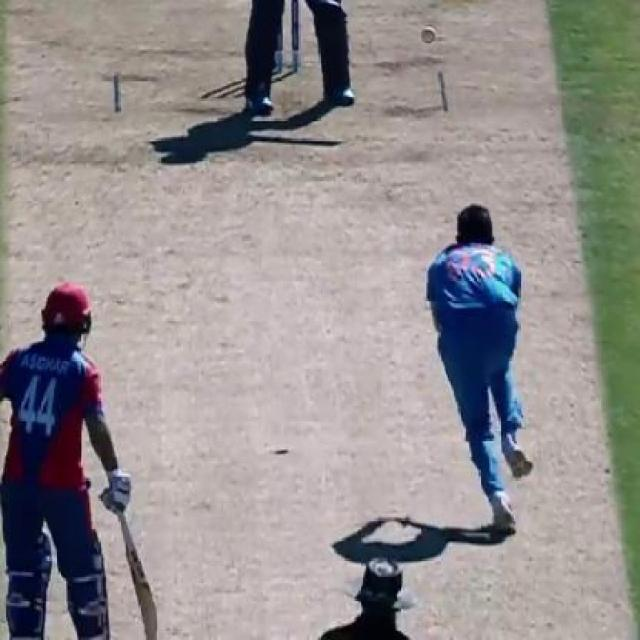Cricket ball: (419, 25, 438, 45)
